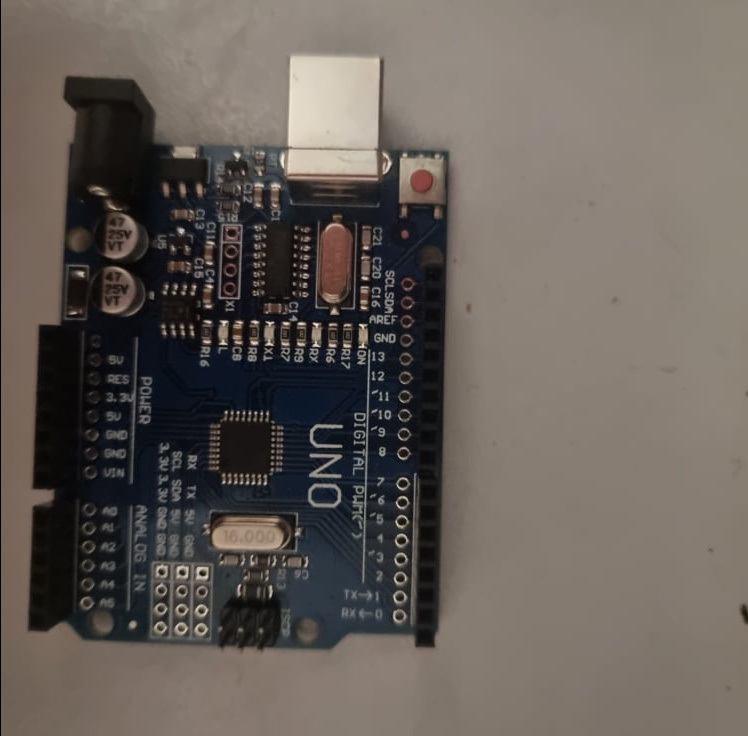UNO R3: (24, 53, 449, 655)
